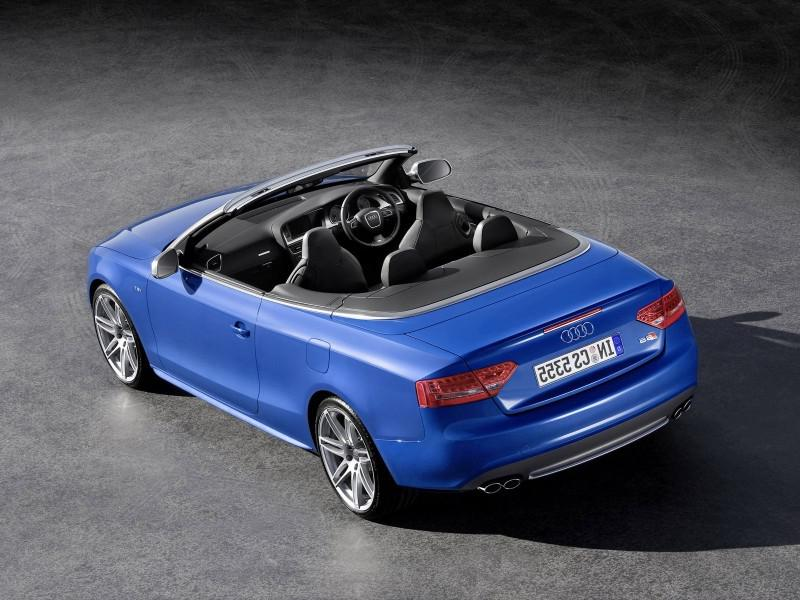Car: (56, 109, 732, 526)
